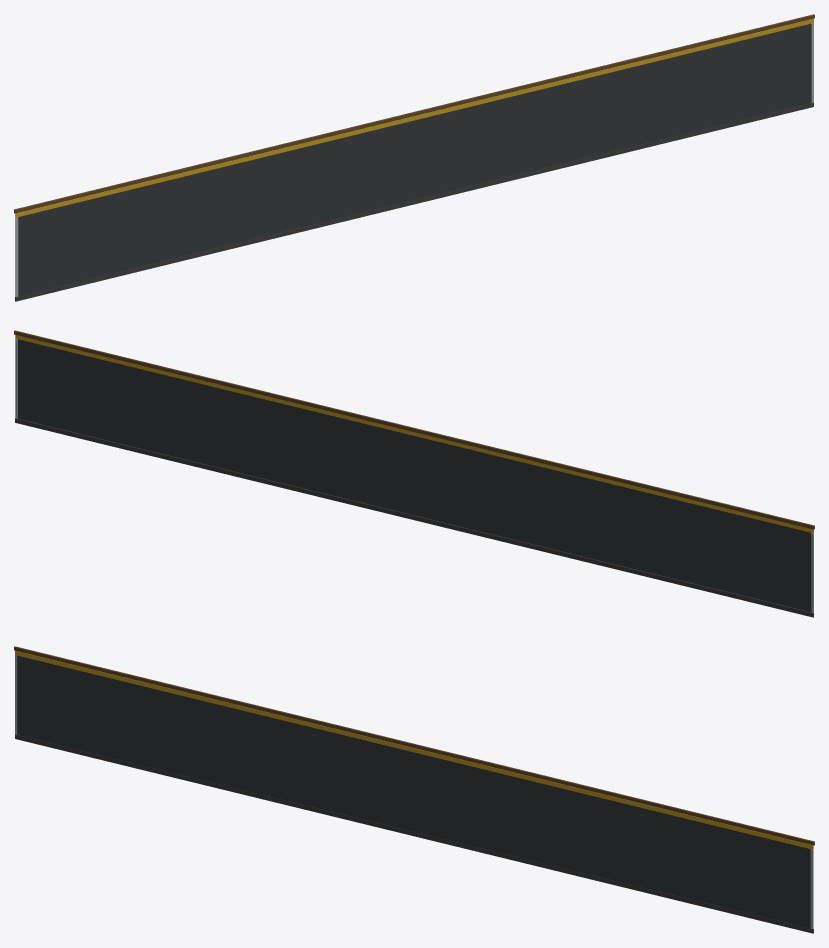
File: prop_of_box_bank_w1880.glb
3 renders of one model, top to bottom at view 1: azimuth 30°, elevation 25°; view 2: azimuth 150°, elevation 25°; view 3: azimuth 330°, elevation 25°, orthographic.
Parts seen in each view (by area): view 1: Bank; view 2: Bank; view 3: Bank.
Boxes of the visible parts, bbox=[...] form: Bank: bbox=[14, 14, 814, 301]; Bank: bbox=[14, 330, 814, 617]; Bank: bbox=[14, 646, 814, 933].
Size of the model in its own units: 18.96 by 2.08 by 0.039.
